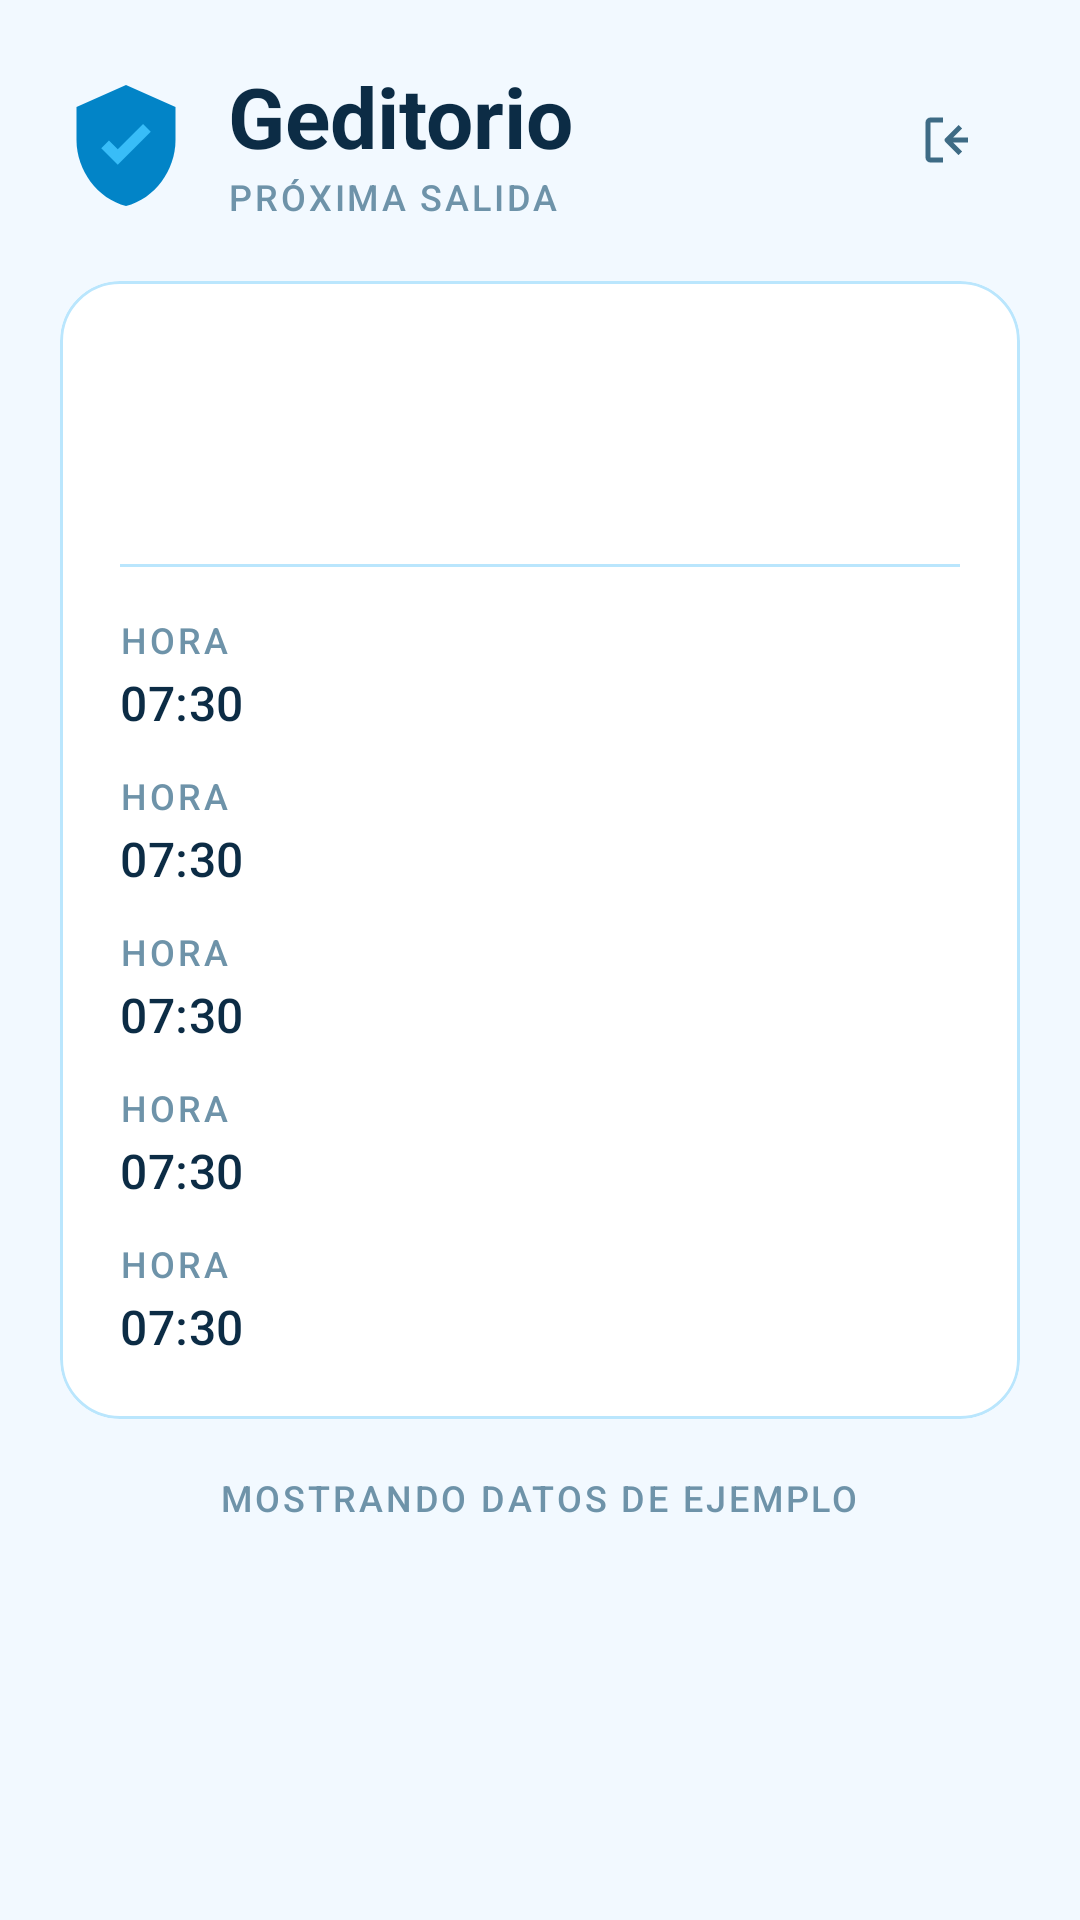

Screen size 1080w x 1920h. Icon name, then its center in pixels as point (x, y):
Cerrar sesión: point (946, 140)
